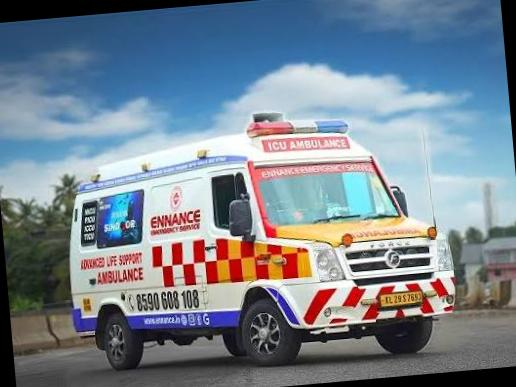ambulance: (55, 94, 460, 382)
